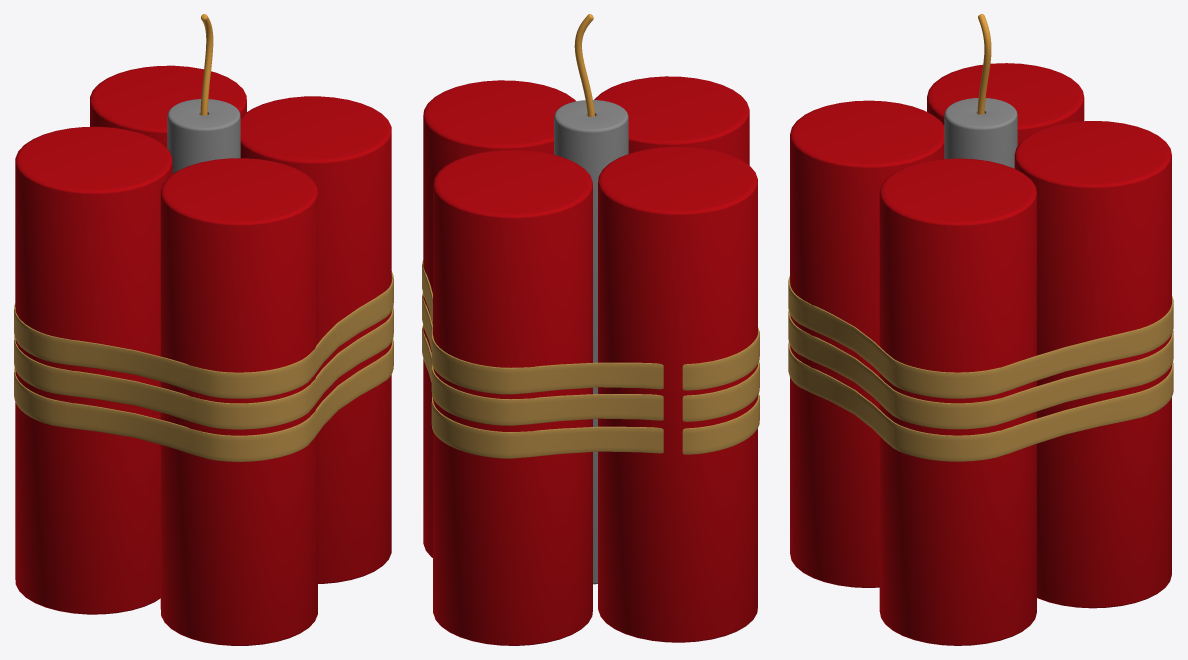
The model's file is anar.glb.
The picture shows the model from 3 angles, left to right: view 1: azimuth 30°, elevation 25°; view 2: azimuth 150°, elevation 25°; view 3: azimuth 270°, elevation 25°; orthographic projection.
Visible parts, largest first — view 1: Cylinder.034, Cube.024, Cube.023, Cube.025, Cylinder.035, BézierCurve; view 2: Cylinder.034, Cube.024, Cube.023, Cube.025, Cylinder.035, BézierCurve; view 3: Cylinder.034, Cube.024, Cube.023, Cube.025, Cylinder.035, BézierCurve.
Boxes of the visible parts, x1,y1,x2,y2 form: Cylinder.034: (15,65,391,645); Cube.024: (14,271,393,398); Cube.023: (14,338,393,461); Cube.025: (14,307,393,429); Cylinder.035: (167,99,240,173); BézierCurve: (200,14,213,115); Cylinder.034: (423,76,757,645); Cube.024: (422,260,759,394); Cube.023: (422,325,759,458); Cube.025: (422,292,759,425); Cylinder.035: (554,100,628,584); BézierCurve: (574,14,594,116); Cylinder.034: (790,63,1171,645); Cube.024: (788,276,1173,398); Cube.023: (788,342,1173,461); Cube.025: (788,310,1173,429); Cylinder.035: (944,98,1017,168); BézierCurve: (977,14,991,114).
Size of the model in its own units: 0.4413 by 0.6981 by 0.4413.
